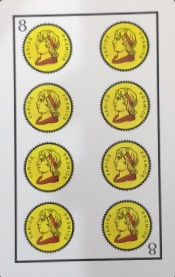8o: (11, 9, 160, 34)
